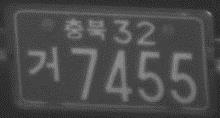2: (135, 21, 157, 45)
3: (112, 19, 132, 44)
4: (104, 49, 133, 101)
5: (136, 50, 165, 103), (169, 52, 197, 104)
7: (68, 46, 98, 100)
거: (24, 45, 60, 81)
충북_O: (64, 17, 106, 41)
